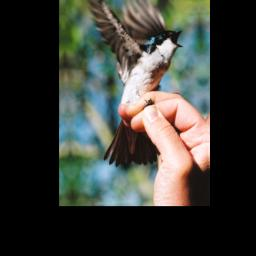Swallow: (75, 0, 192, 171)
